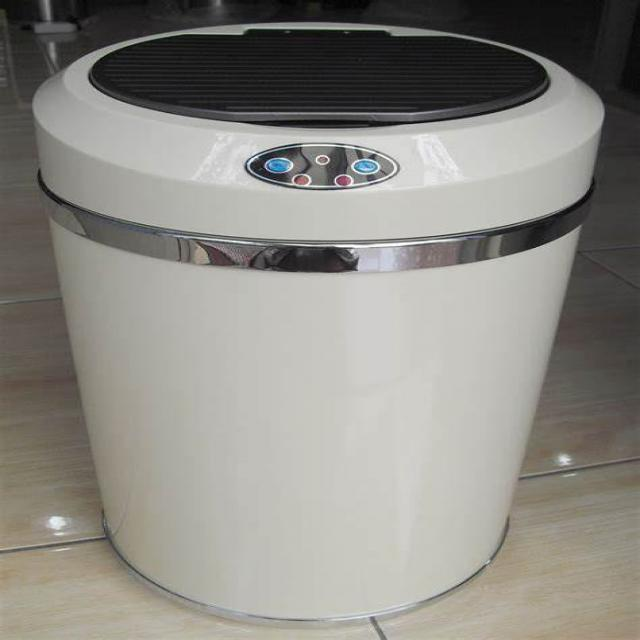Dustbin: (25, 18, 640, 628)
